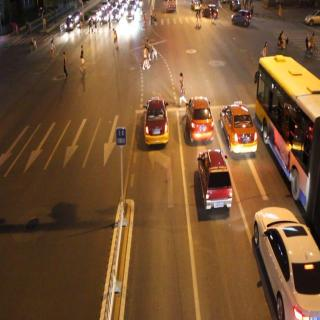BigCar: (255, 55, 320, 218)
Car: (249, 201, 320, 320), (196, 144, 237, 222), (221, 91, 256, 162), (183, 86, 215, 144), (143, 88, 172, 150), (228, 8, 255, 33), (303, 8, 320, 32), (203, 0, 220, 20), (165, 0, 180, 17), (190, 0, 205, 11)
